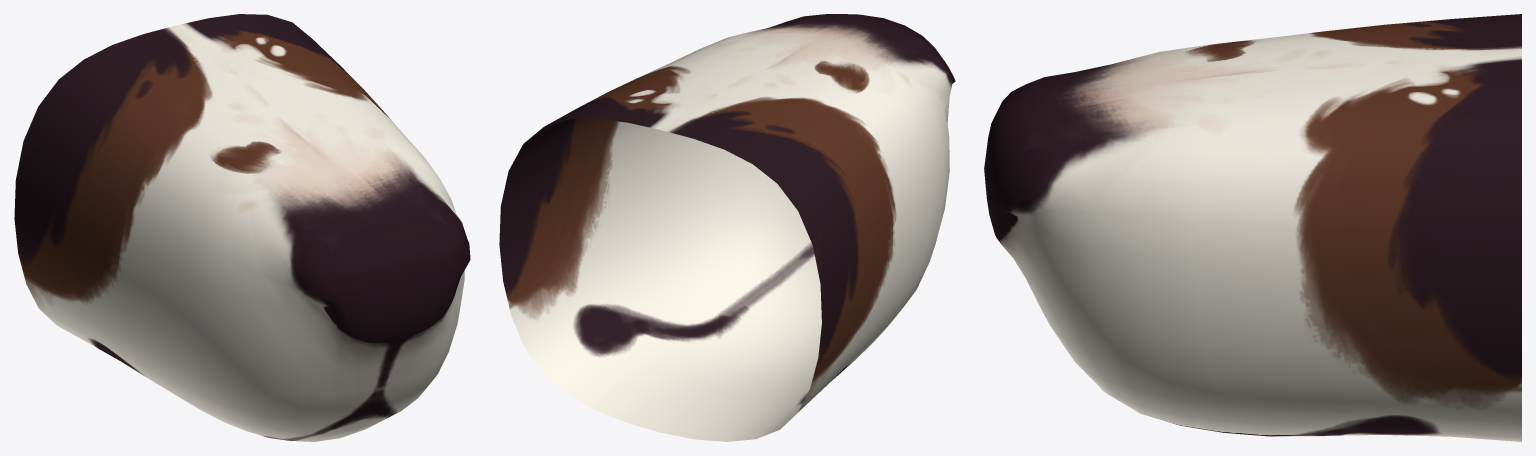
Rendered from snout.fbx.
The picture shows the model from 3 angles, left to right: view 1: azimuth 30°, elevation 25°; view 2: azimuth 150°, elevation 25°; view 3: azimuth 270°, elevation 25°; orthographic projection. The views are drawn at different scales.
Visible parts, largest first — view 1: Cube; view 2: Cube; view 3: Cube.
Boxes of the visible parts, box(x1,y1,x2,y2) form: Cube: box(14, 14, 470, 441); Cube: box(499, 14, 955, 441); Cube: box(984, 14, 1521, 441).
Size of the model in its own units: 22.28 by 20.56 by 27.48.
